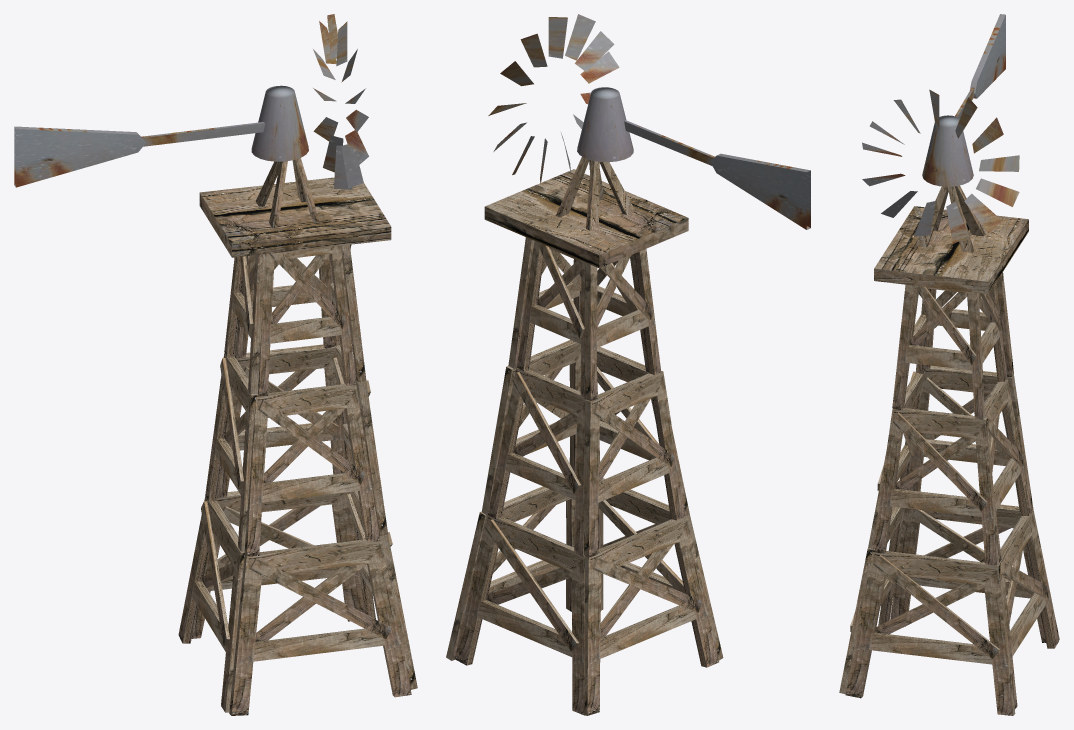
The model's file is Windmill.fbx.
3 views of the same model, side by side, from view 1: azimuth 30°, elevation 25°; view 2: azimuth 150°, elevation 25°; view 3: azimuth 270°, elevation 25° (orthographic). The views are drawn at different scales.
Visible parts, largest first — view 1: WindmillMain__8_, WindmillFloor, WindmillMain__7_, WindmillFlapper, WindmillMain__10_, WindmillMain__6_, WindmillFan, WindmillMain__9_, WindmillMain__3_, WindmillMain__4_, WindmillCone, WindmillMain__11_ (+16 smaller); view 2: WindmillFloor, WindmillMain__10_, WindmillMain__4_, WindmillMain__9_, WindmillMain__3_, WindmillFlapper, WindmillFan, WindmillMain__11_, WindmillMain, WindmillMain__1_, WindmillCone, WindmillMain__5_ (+17 smaller); view 3: WindmillMain, WindmillFloor, WindmillMain__1_, WindmillFan, WindmillMain__2_, WindmillMain__4_, WindmillMain__10_, WindmillMain__9_, WindmillCone, WindmillMain__3_, WindmillMain__8_, WoodDiagFront (+17 smaller).
Part boxes in pixels (left/top/right/bottom): WindmillMain__8_: left=229, top=538, right=411, bottom=715; WindmillFloor: left=199, top=177, right=391, bottom=257; WindmillMain__7_: left=244, top=384, right=380, bottom=556; WindmillFlapper: left=14, top=122, right=265, bottom=187; WindmillMain__10_: left=178, top=496, right=244, bottom=712; WindmillMain__6_: left=258, top=245, right=356, bottom=395; WindmillFan: left=313, top=14, right=368, bottom=189; WindmillMain__9_: left=205, top=353, right=258, bottom=551; WindmillMain__3_: left=217, top=344, right=344, bottom=497; WindmillMain__4_: left=191, top=491, right=364, bottom=638; WindmillCone: left=251, top=85, right=308, bottom=161; WindmillMain__11_: left=224, top=254, right=266, bottom=394; WindmillFloor: left=484, top=169, right=688, bottom=268; WindmillMain__10_: left=584, top=516, right=718, bottom=715; WindmillMain__4_: left=454, top=515, right=584, bottom=715; WindmillMain__9_: left=583, top=370, right=685, bottom=557; WindmillMain__3_: left=488, top=368, right=585, bottom=555; WindmillFlapper: left=624, top=120, right=810, bottom=229; WindmillFan: left=488, top=14, right=619, bottom=184; WindmillMain__11_: left=584, top=248, right=661, bottom=400; WindmillMain: left=446, top=486, right=575, bottom=660; WindmillMain__1_: left=481, top=340, right=580, bottom=516; WindmillCone: left=577, top=87, right=633, bottom=162; WindmillMain__5_: left=517, top=241, right=584, bottom=396; WindmillMain: left=845, top=551, right=1015, bottom=715; WindmillFloor: left=874, top=206, right=1028, bottom=293; WindmillMain__1_: left=872, top=408, right=998, bottom=565; WindmillFan: left=862, top=89, right=1019, bottom=243; WindmillMain__2_: left=892, top=284, right=985, bottom=419; WindmillMain__4_: left=999, top=510, right=1058, bottom=708; WindmillMain__10_: left=890, top=504, right=1059, bottom=642; WindmillMain__9_: left=907, top=365, right=1033, bottom=511; WindmillCone: left=922, top=115, right=973, bottom=186; WindmillMain__3_: left=984, top=378, right=1032, bottom=562; WindmillMain__8_: left=839, top=506, right=904, bottom=694; WoodDiagFront: left=873, top=555, right=999, bottom=658.
Size of the model in its own units: 1029 by 1731 by 581.
